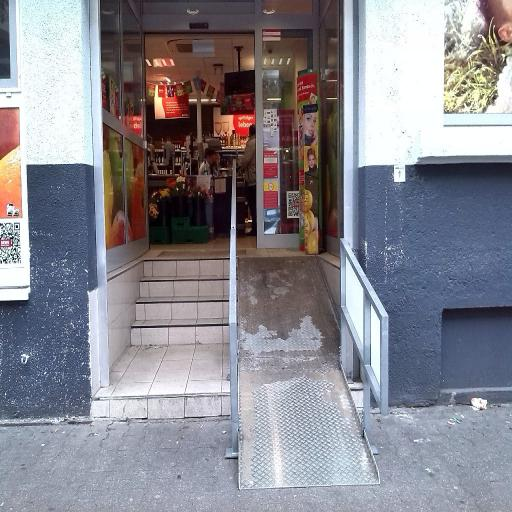ramp: (236, 256, 380, 490)
stairs: (131, 259, 231, 344)
